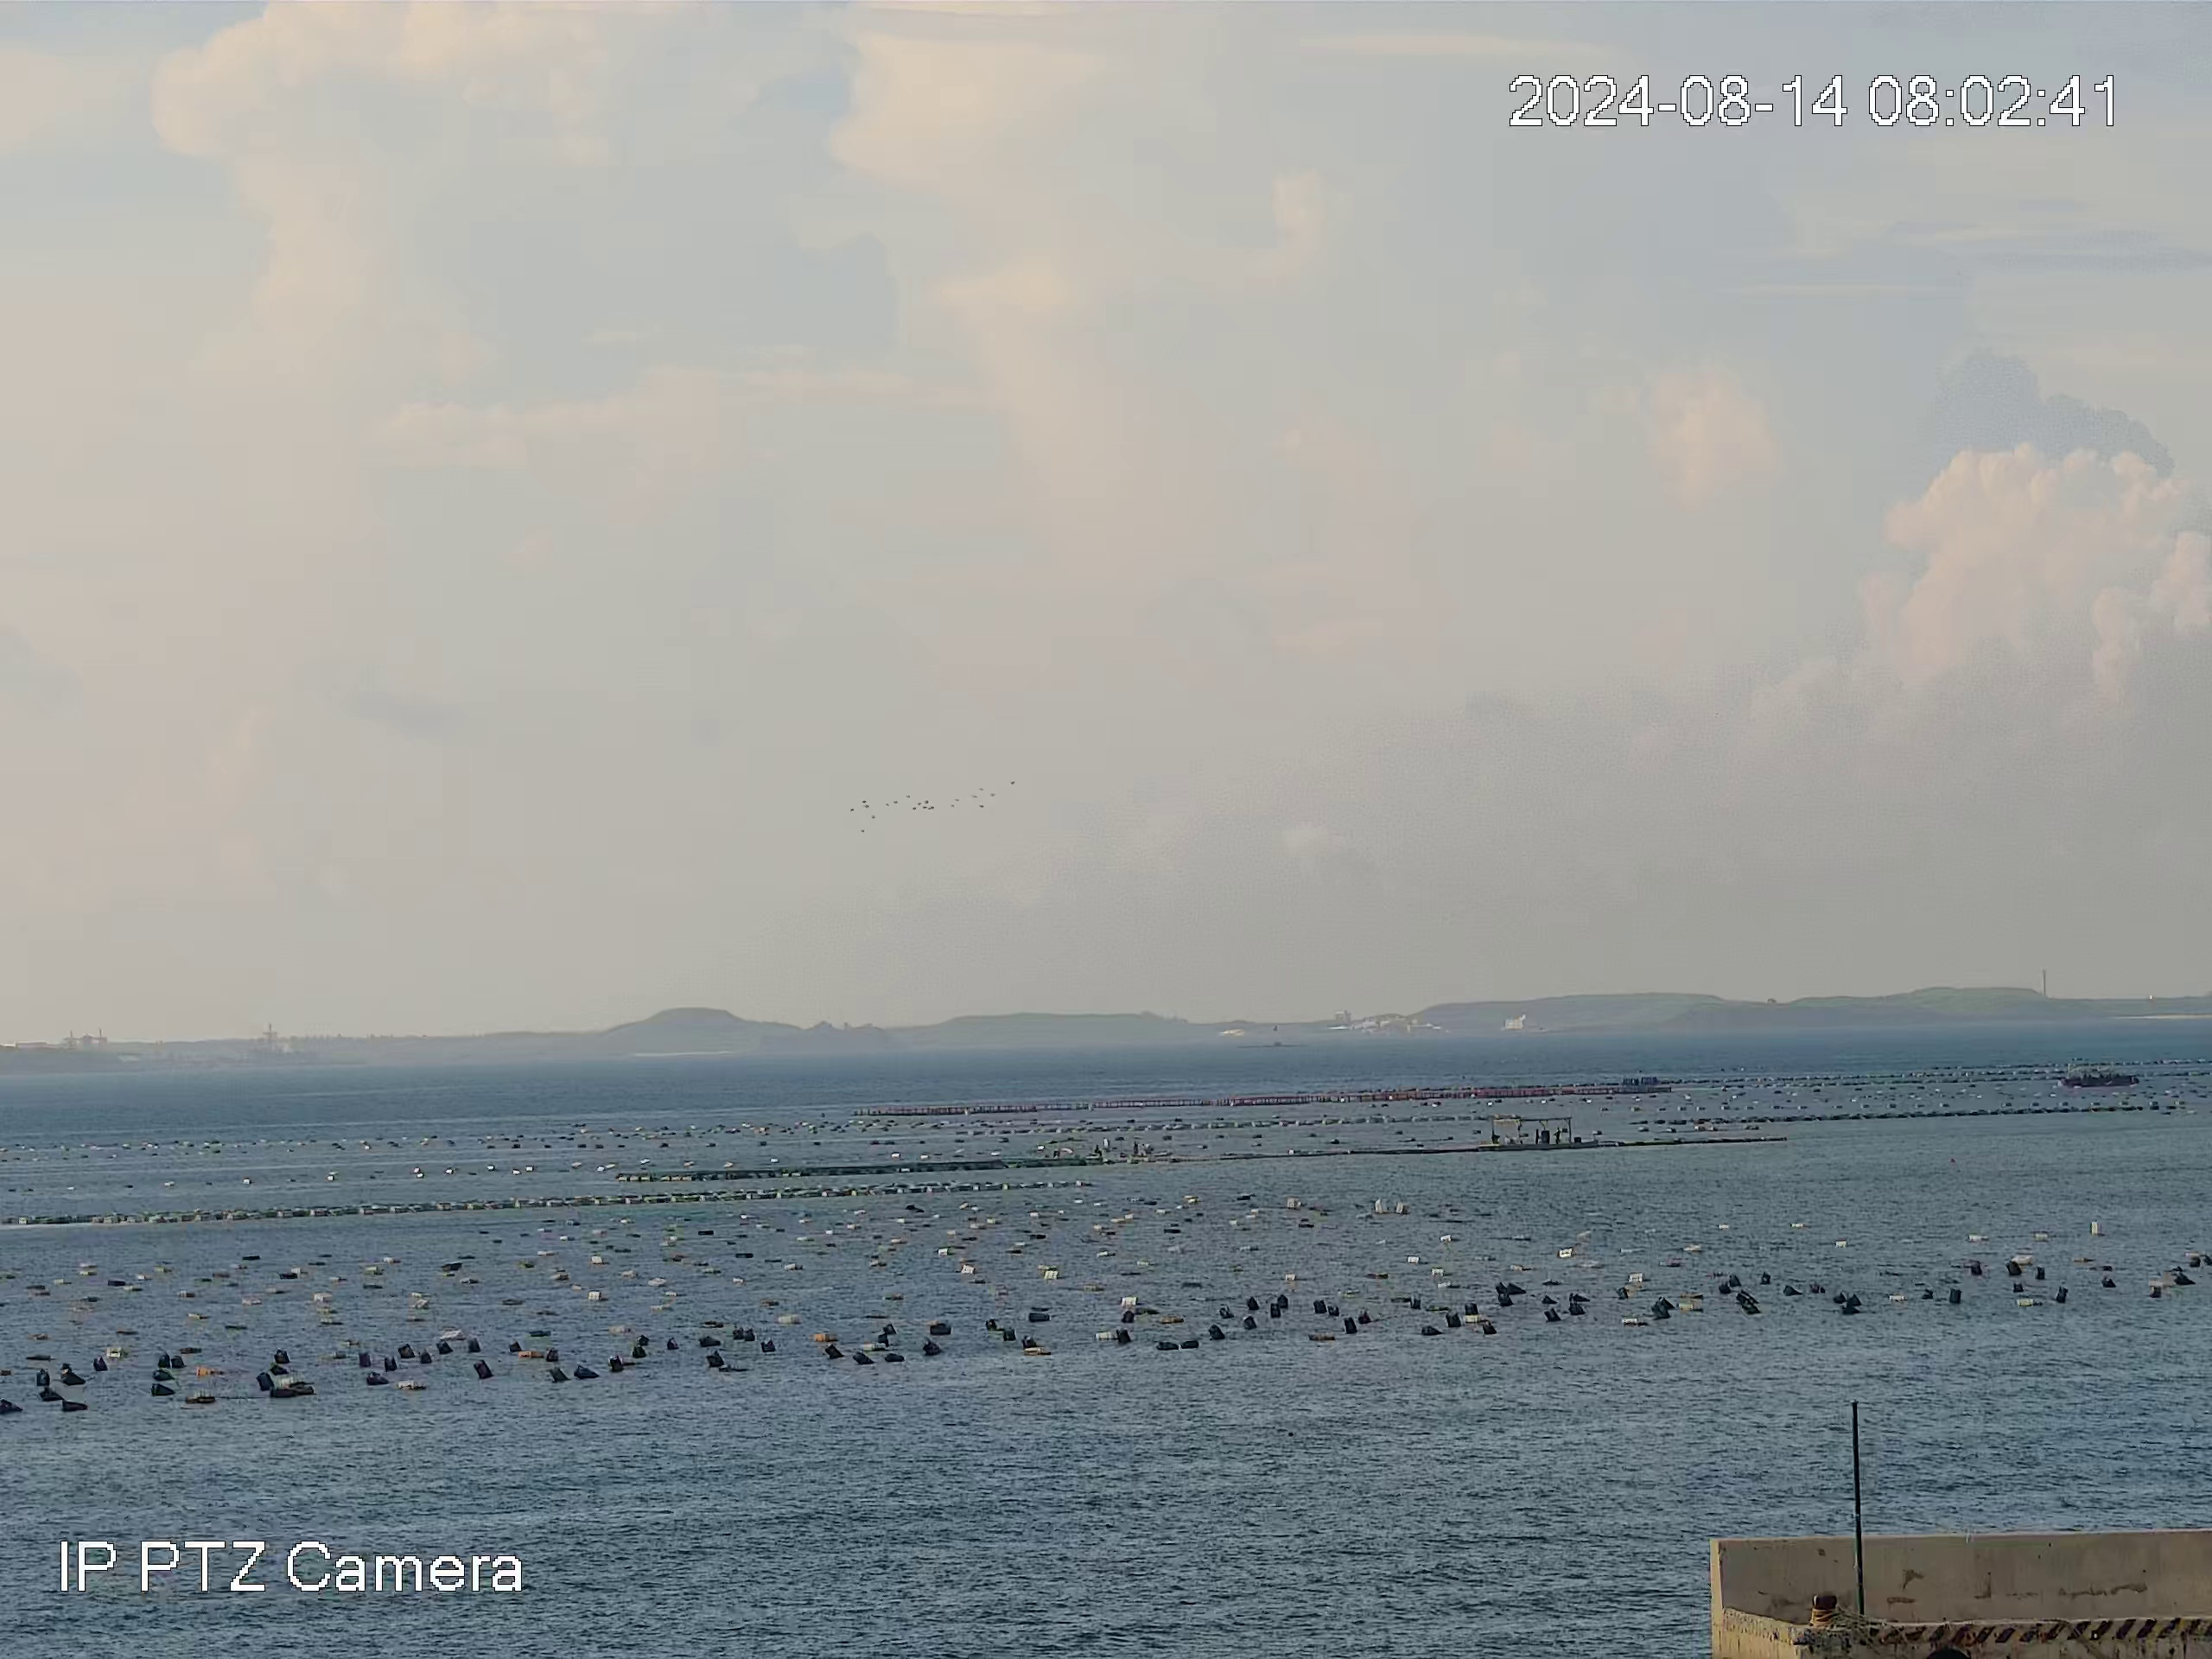boat: (1484, 1112, 1600, 1150), (2059, 1060, 2142, 1089)
